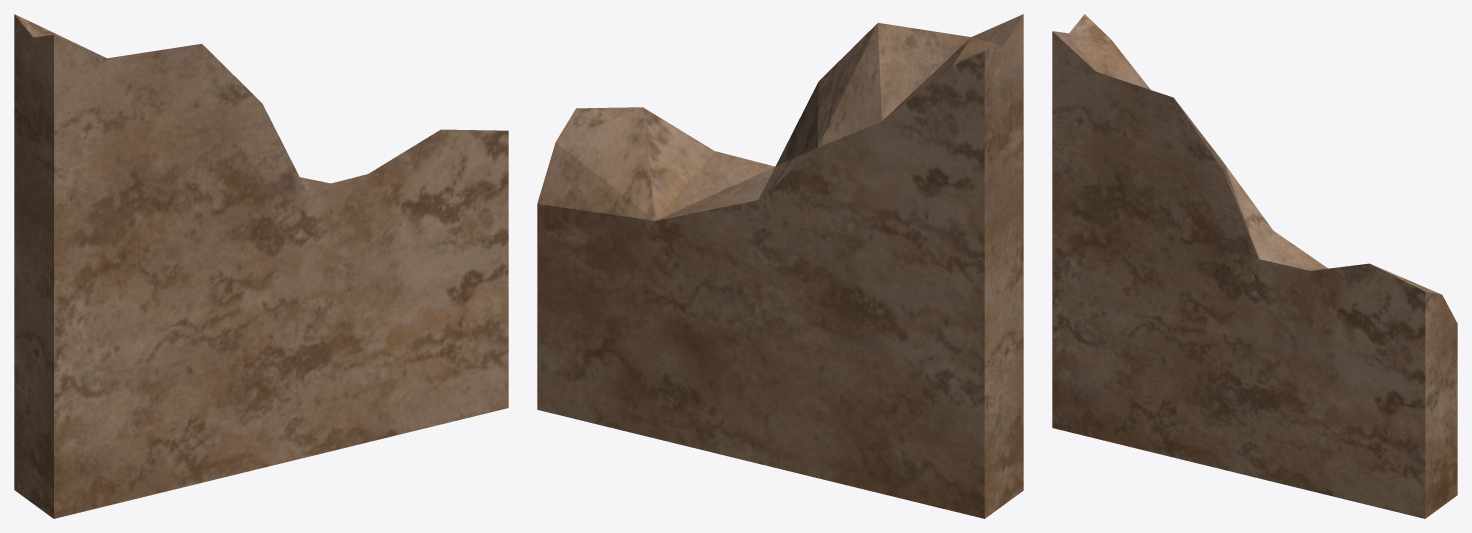
File: DoorsDestroyed1.fbx
The picture shows the model from 3 angles, left to right: view 1: azimuth 30°, elevation 25°; view 2: azimuth 150°, elevation 25°; view 3: azimuth 330°, elevation 25°; orthographic projection. The views are drawn at different scales.
Visible parts, largest first — view 1: DoorsDestroyed.002; view 2: DoorsDestroyed.002; view 3: DoorsDestroyed.002.
Part boxes in pixels (<box>): DoorsDestroyed.002: <box>14,14,508,518</box>; DoorsDestroyed.002: <box>537,14,1023,518</box>; DoorsDestroyed.002: <box>1052,14,1457,518</box>.
Size of the model in its own units: 307 by 312 by 46.3.
1 material, 1 textured.
